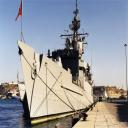Fragata: (18, 1, 98, 128)
